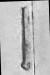M195: (3, 0, 47, 74)
